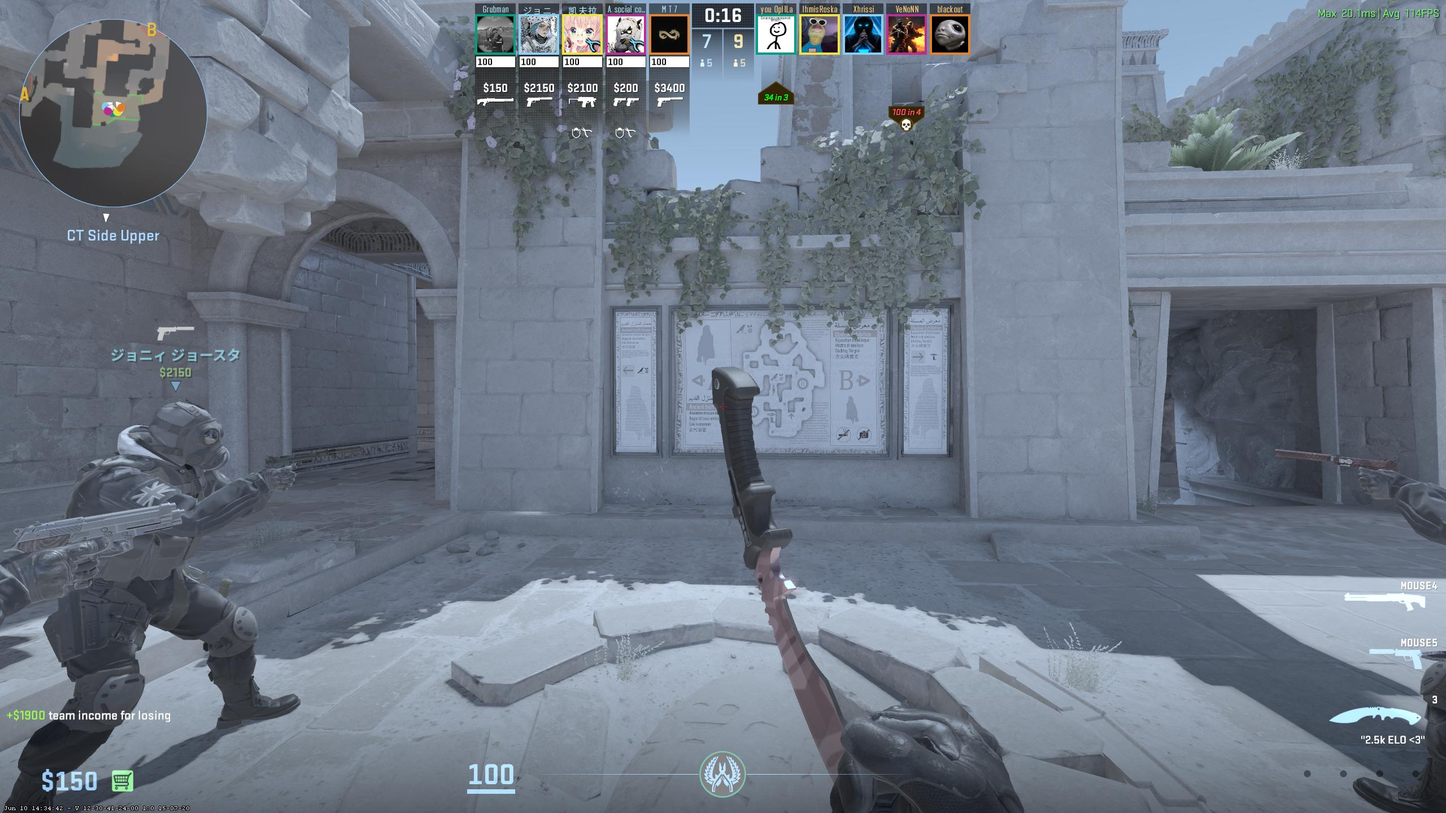CT: (0, 402, 307, 813)
